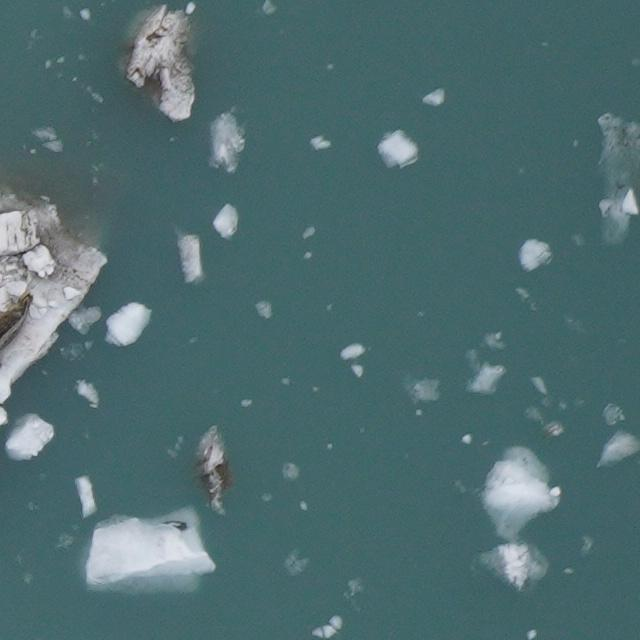seal: (0, 288, 38, 352)
